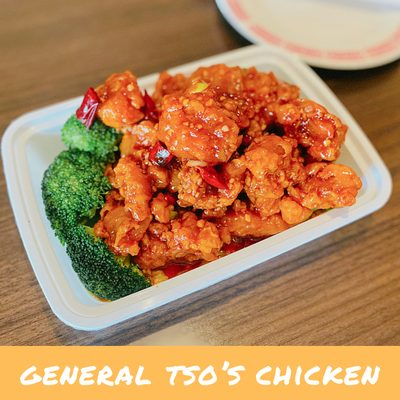curry: (40, 108, 152, 301)
